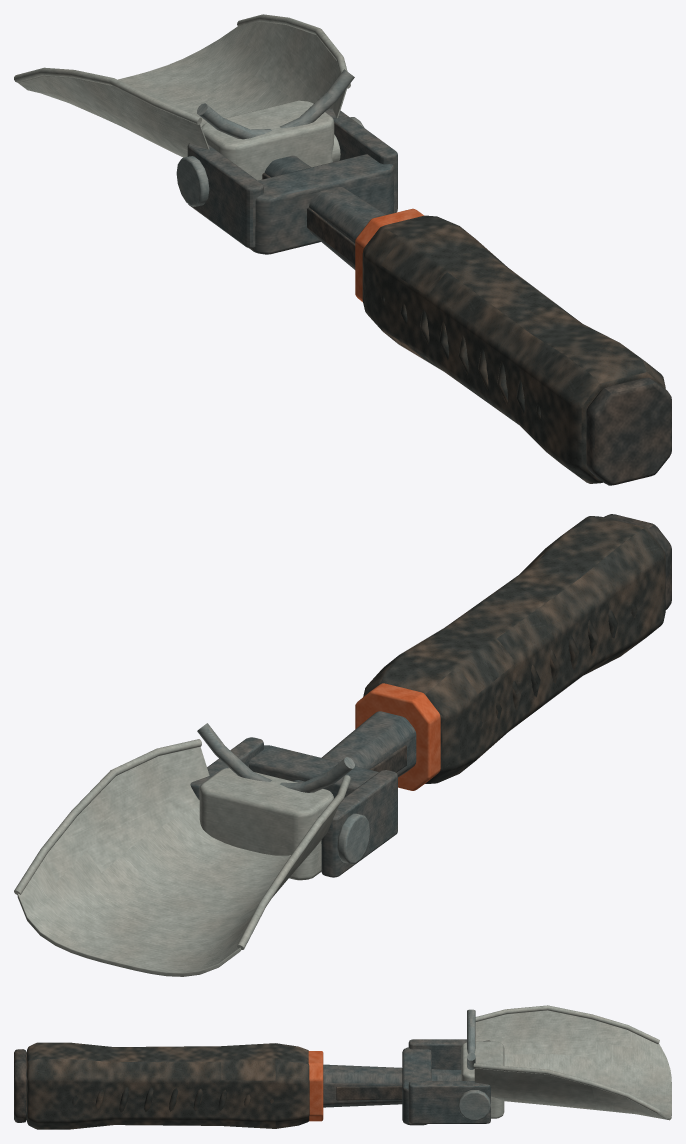
Rendered from sample_scoop.glb.
The picture shows the model from 3 angles, top to bottom: view 1: azimuth 30°, elevation 25°; view 2: azimuth 150°, elevation 25°; view 3: azimuth 270°, elevation 25°; orthographic projection. The views are drawn at different scales.
Parts seen in each view (by area): view 1: Pressure_glove_grip_black_rubber, Pan, Machined_butt_plate_graphite, Yoke_bridge_dark_alloy, Stamped_pan_heel_satin_steel, Yoke_cheek_dark_alloy, Through_tang_dark_alloy, Yoke_cheek_dark_alloy.001, Reinforced_heel_rim_alloy, Rolled_pan_rim_satin_steel, Tilt_pin_retainer_alloy, Orange_grip_collar_orange (+2 smaller); view 2: Pan, Pressure_glove_grip_black_rubber, Stamped_pan_heel_satin_steel, Orange_grip_collar_orange, Yoke_cheek_dark_alloy, Through_tang_dark_alloy, Yoke_bridge_dark_alloy, Rolled_pan_rim_satin_steel.001, Reinforced_heel_rim_alloy, Rolled_pan_rim_satin_steel, Tilt_pin_retainer_alloy, Machined_butt_plate_graphite (+1 smaller); view 3: Pressure_glove_grip_black_rubber, Pan, Yoke_cheek_dark_alloy.001, Through_tang_dark_alloy, Yoke_bridge_dark_alloy, Stamped_pan_heel_satin_steel, Yoke_cheek_dark_alloy, Rolled_pan_rim_satin_steel.001, Orange_grip_collar_orange, Rolled_pan_rim_satin_steel, Shaft_flat_graphite.001, Machined_butt_plate_graphite (+2 smaller).
Boxes of the visible parts, bbox=[...] form: Pressure_glove_grip_black_rubber: bbox=[362, 215, 665, 483]; Pan: bbox=[18, 21, 346, 157]; Machined_butt_plate_graphite: bbox=[586, 377, 671, 485]; Yoke_bridge_dark_alloy: bbox=[249, 154, 393, 254]; Stamped_pan_heel_satin_steel: bbox=[201, 100, 334, 180]; Yoke_cheek_dark_alloy: bbox=[187, 143, 263, 248]; Through_tang_dark_alloy: bbox=[264, 155, 385, 269]; Yoke_cheek_dark_alloy.001: bbox=[325, 108, 397, 212]; Reinforced_heel_rim_alloy: bbox=[197, 69, 354, 139]; Rolled_pan_rim_satin_steel: bbox=[14, 67, 201, 124]; Tilt_pin_retainer_alloy: bbox=[176, 156, 209, 206]; Orange_grip_collar_orange: bbox=[355, 208, 423, 301]; Pan: bbox=[17, 747, 338, 976]; Pressure_glove_grip_black_rubber: bbox=[363, 516, 665, 783]; Stamped_pan_heel_satin_steel: bbox=[199, 768, 333, 880]; Orange_grip_collar_orange: bbox=[355, 683, 440, 790]; Yoke_cheek_dark_alloy: bbox=[321, 770, 397, 877]; Through_tang_dark_alloy: bbox=[293, 711, 416, 783]; Yoke_bridge_dark_alloy: bbox=[249, 745, 378, 797]; Rolled_pan_rim_satin_steel.001: bbox=[14, 739, 201, 894]; Reinforced_heel_rim_alloy: bbox=[197, 723, 354, 792]; Rolled_pan_rim_satin_steel: bbox=[237, 775, 350, 949]; Tilt_pin_retainer_alloy: bbox=[337, 813, 369, 864]; Machined_butt_plate_graphite: bbox=[604, 514, 671, 609]; Pressure_glove_grip_black_rubber: bbox=[27, 1042, 309, 1129]; Pan: bbox=[474, 1010, 671, 1120]; Yoke_cheek_dark_alloy.001: bbox=[408, 1081, 490, 1123]; Through_tang_dark_alloy: bbox=[323, 1064, 461, 1107]; Yoke_bridge_dark_alloy: bbox=[402, 1047, 431, 1125]; Stamped_pan_heel_satin_steel: bbox=[461, 1041, 504, 1118]; Yoke_cheek_dark_alloy: bbox=[408, 1039, 490, 1069]; Rolled_pan_rim_satin_steel.001: bbox=[473, 1063, 659, 1113]; Orange_grip_collar_orange: bbox=[308, 1051, 323, 1121]; Rolled_pan_rim_satin_steel: bbox=[475, 1005, 659, 1043]; Shaft_flat_graphite.001: bbox=[336, 1086, 402, 1100]; Machined_butt_plate_graphite: bbox=[14, 1049, 26, 1122].
Size of the model in its own units: 0.1031 by 0.0608 by 0.4.
Materials: 6 (6 with a texture image).
